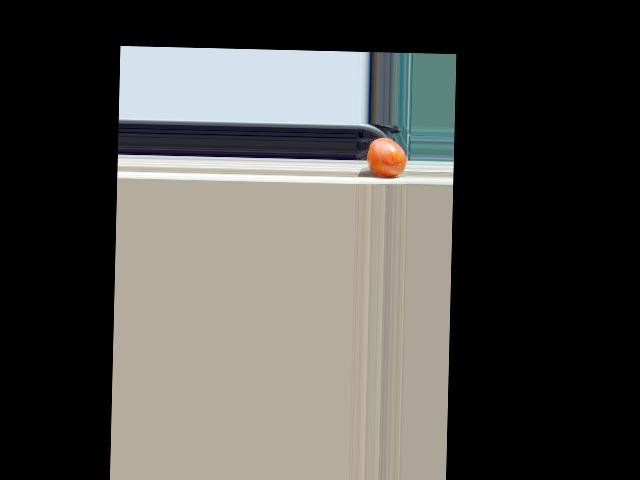tomato: (366, 136, 406, 177)
